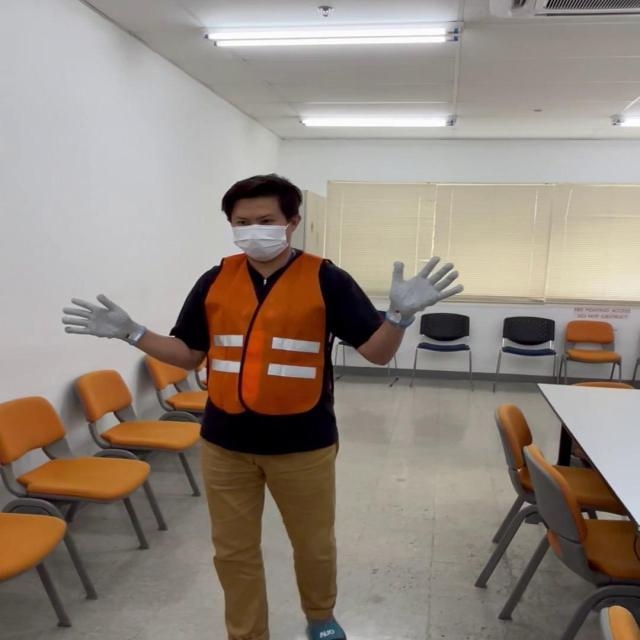gloved_hand: (386, 255, 459, 321), (63, 292, 139, 346)
